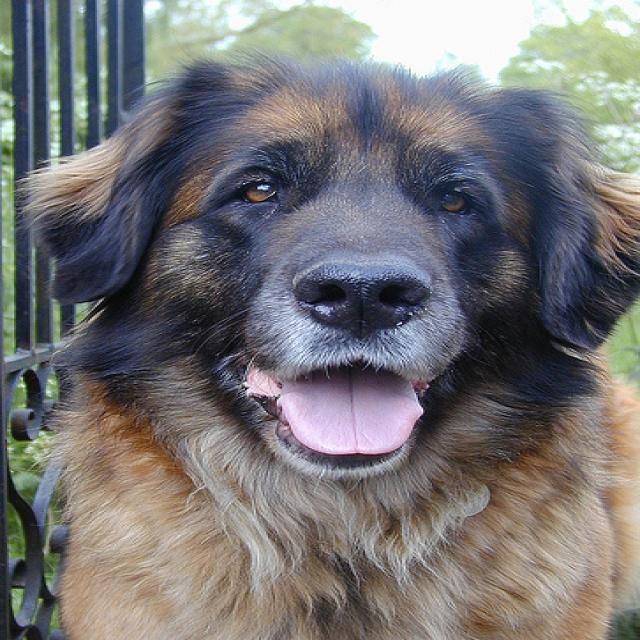dog-leonberger: (9, 50, 636, 637)
